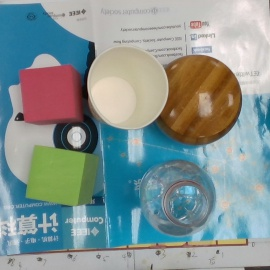bottle: (136, 159, 217, 236)
chess: (157, 56, 243, 146)
cup: (86, 48, 169, 132)
